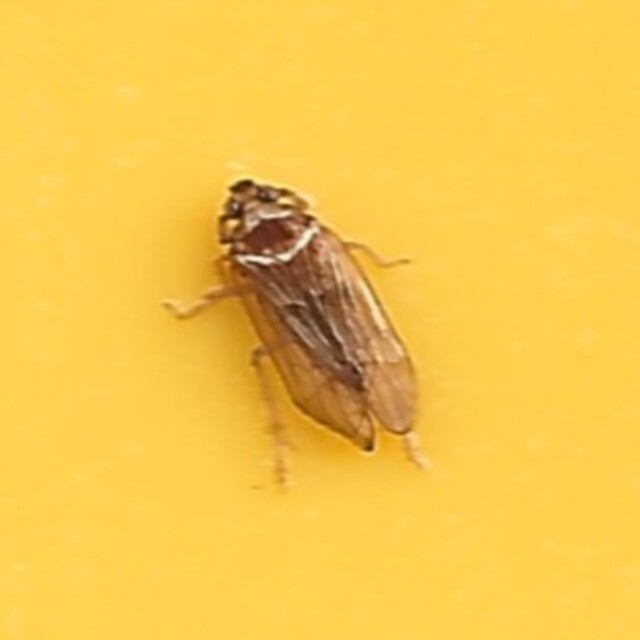Hemiptera: (211, 174, 429, 466)
